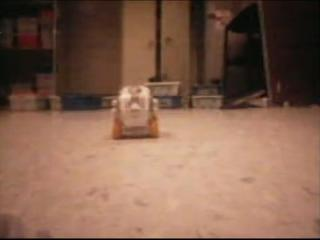cozmo: (110, 84, 160, 139)
